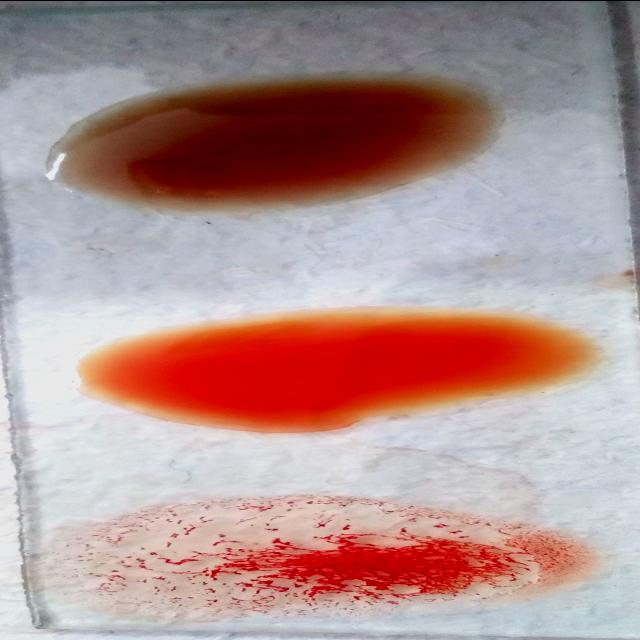D: (56, 502, 585, 615)
